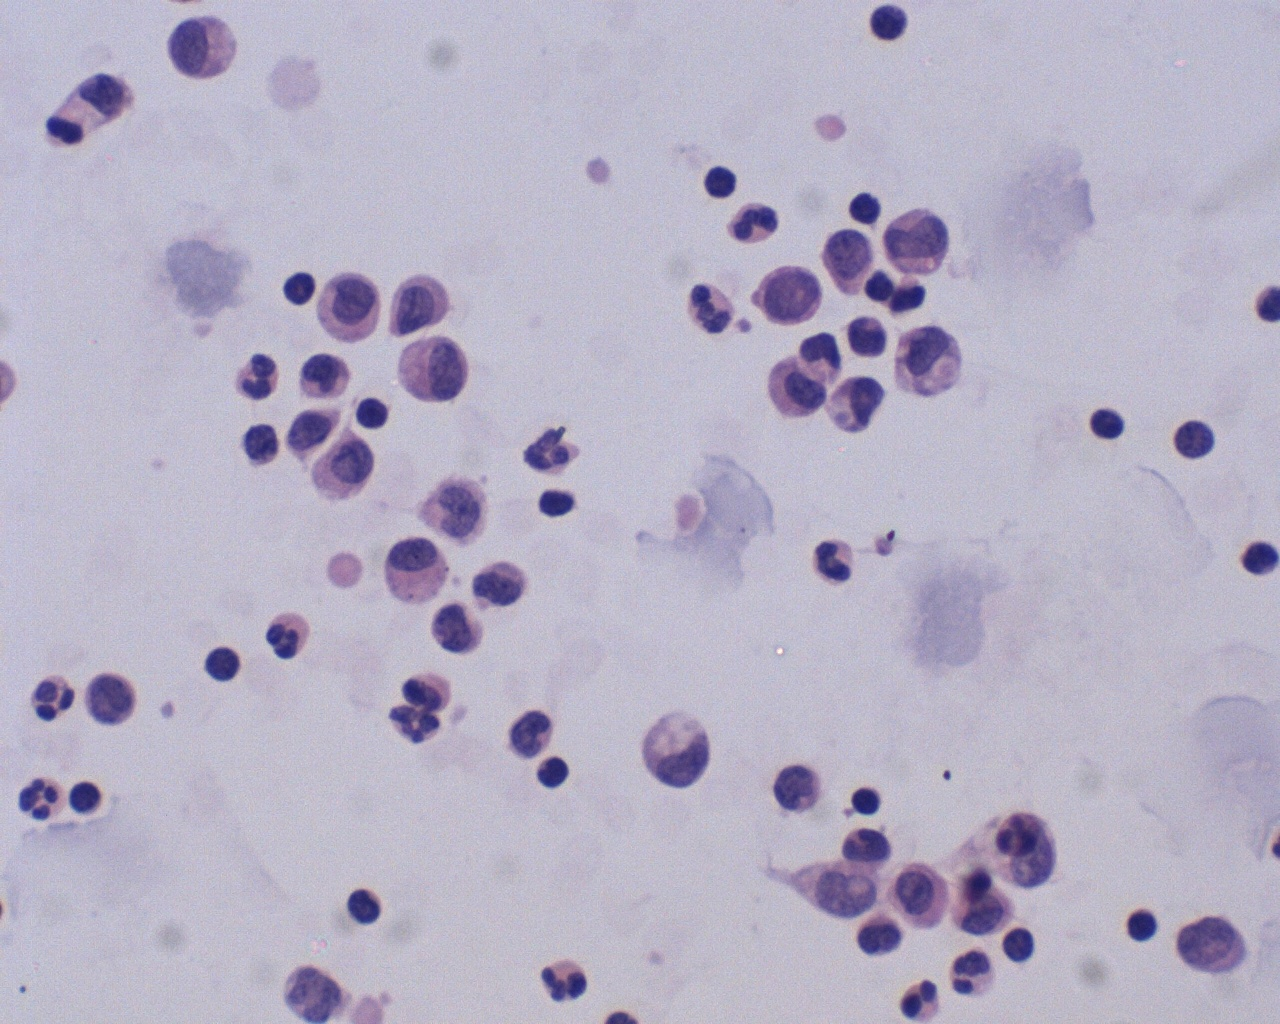ab: (871, 201, 955, 276), (396, 332, 474, 406), (385, 266, 465, 339), (888, 858, 959, 936), (311, 426, 381, 505), (1176, 905, 1250, 976), (751, 261, 827, 330), (818, 219, 874, 303)
lymph: (694, 160, 747, 206), (202, 643, 248, 691), (1088, 403, 1133, 446), (847, 779, 893, 821), (354, 388, 394, 435), (1120, 907, 1161, 949), (532, 753, 571, 797)
meso: (380, 533, 453, 609)
neutro: (223, 345, 286, 405), (537, 949, 596, 1007), (723, 197, 789, 249), (804, 533, 859, 588), (262, 606, 315, 665), (16, 767, 66, 827), (27, 669, 77, 727)
